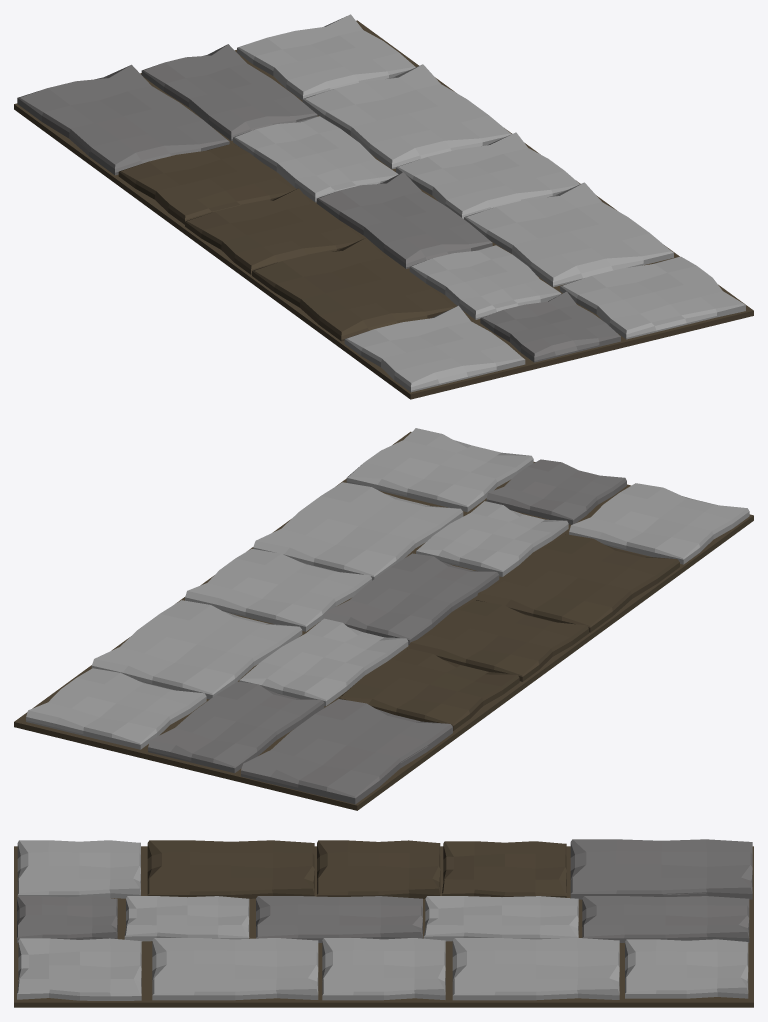
The model's file is FBX_ENV_RUIN_FloorSmall.fbx.
3 renders of one model, top to bottom at view 1: azimuth 30°, elevation 25°; view 2: azimuth 150°, elevation 25°; view 3: azimuth 270°, elevation 25°, orthographic. The views are drawn at different scales.
Visible parts, largest first — view 1: Cube.181; view 2: Cube.181; view 3: Cube.181.
Boxes of the visible parts, x1,y1,x2,y2 form: Cube.181: (14,14,753,399); Cube.181: (14,428,753,810); Cube.181: (14,839,753,1007).
Bounding box in the file's own units: 600 × 29.61 × 1200.
